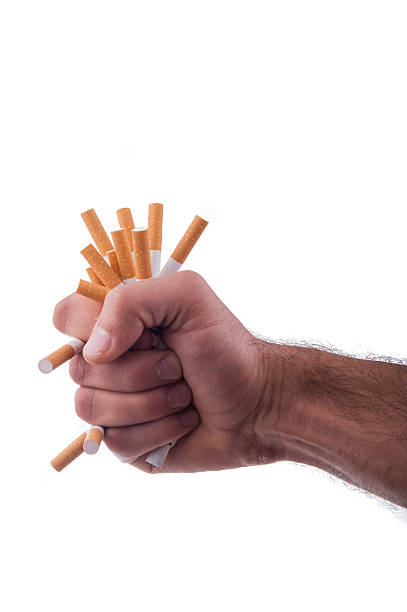cigarette: (157, 210, 213, 283), (79, 205, 123, 283), (47, 424, 95, 474), (37, 335, 88, 376), (80, 241, 123, 289), (110, 226, 136, 287), (146, 200, 165, 280), (114, 205, 136, 265), (143, 436, 175, 472), (130, 225, 150, 282), (73, 276, 112, 302), (80, 423, 105, 456)
